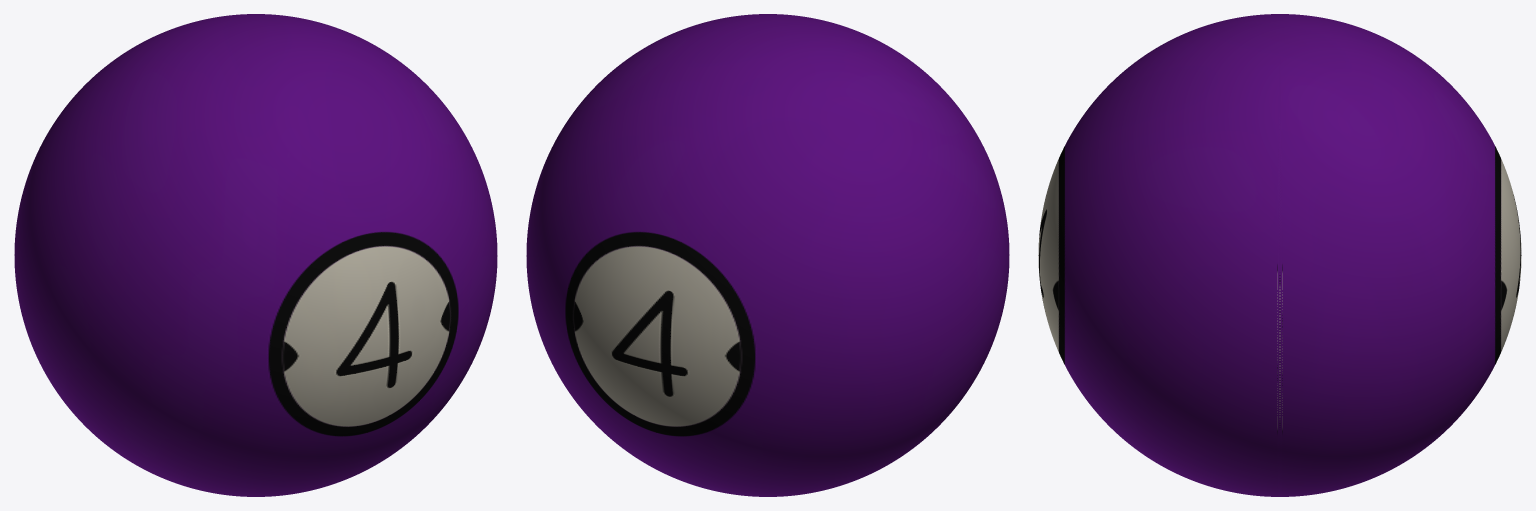
The picture shows the model from 3 angles, left to right: view 1: azimuth 30°, elevation 25°; view 2: azimuth 150°, elevation 25°; view 3: azimuth 270°, elevation 25°; orthographic projection.
Parts seen in each view (by area): view 1: Billiard_Ball_04; view 2: Billiard_Ball_04; view 3: Billiard_Ball_04.
Boxes of the visible parts, bbox=[...] form: Billiard_Ball_04: bbox=[14, 14, 497, 496]; Billiard_Ball_04: bbox=[526, 14, 1009, 496]; Billiard_Ball_04: bbox=[1038, 14, 1521, 496].
Bounding box in the file's own units: 0.0572 × 0.0571 × 0.0572.
Materials: 1 (1 with a texture image).
